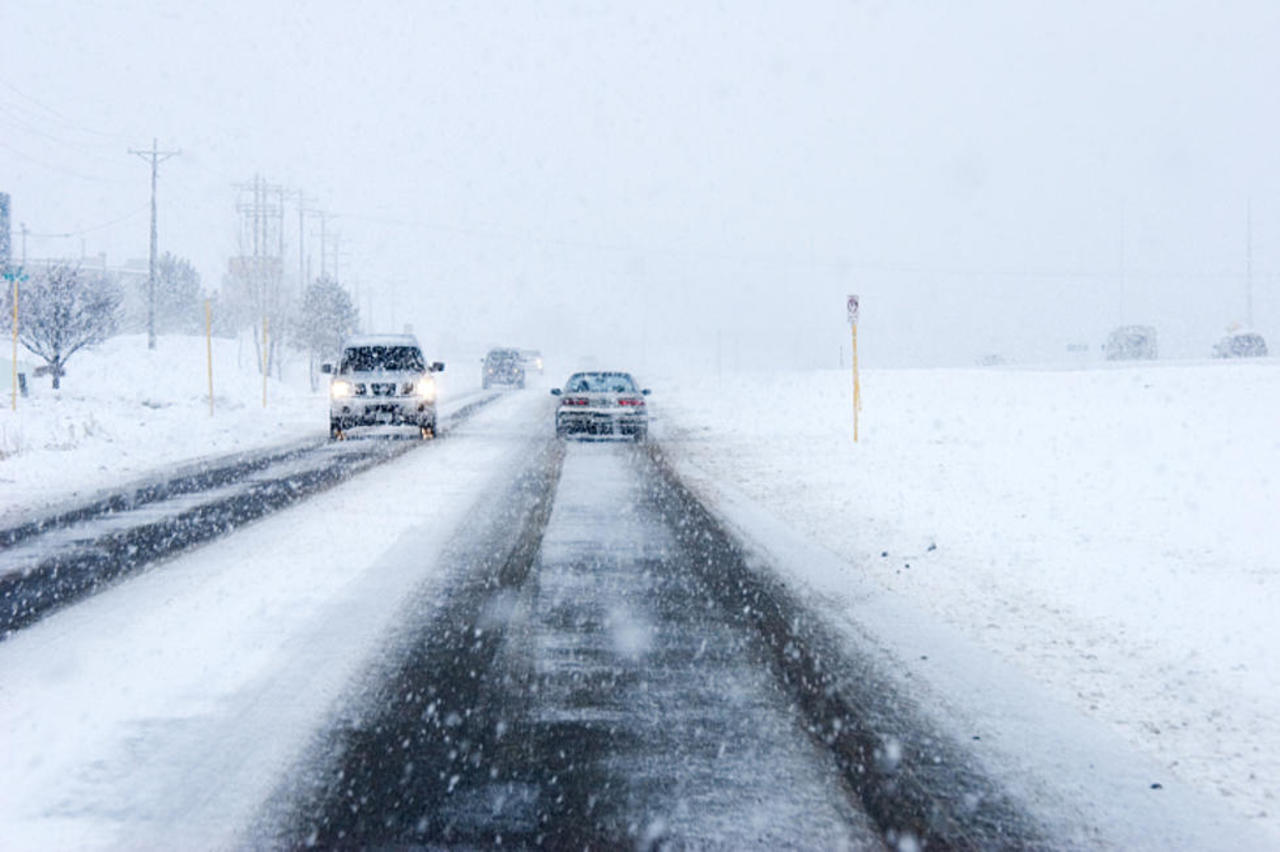car: (321, 331, 439, 443), (552, 370, 650, 443), (475, 349, 526, 388), (522, 348, 545, 375)
